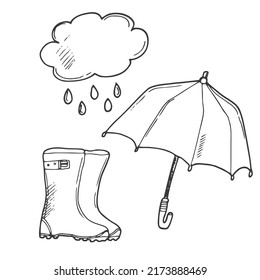cloud: (38, 10, 150, 81)
